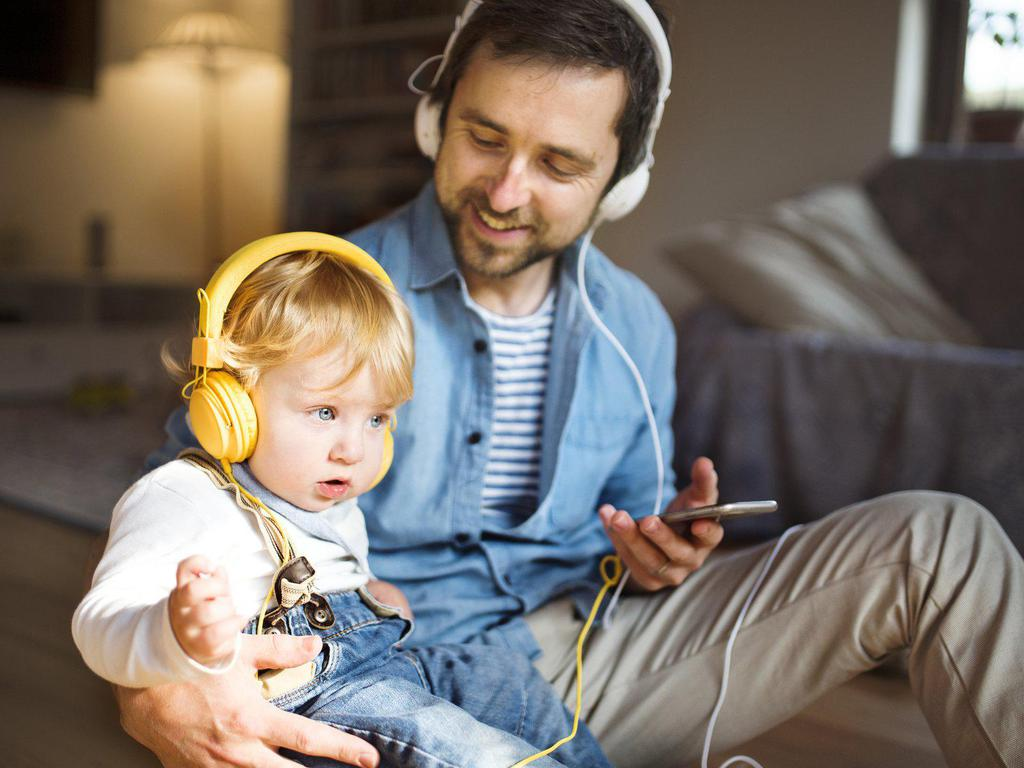child: (68, 222, 521, 768)
